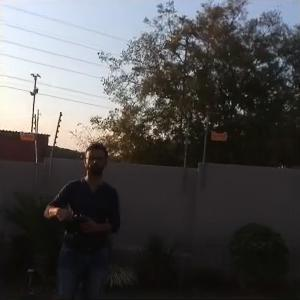follow: (38, 137, 123, 298)
